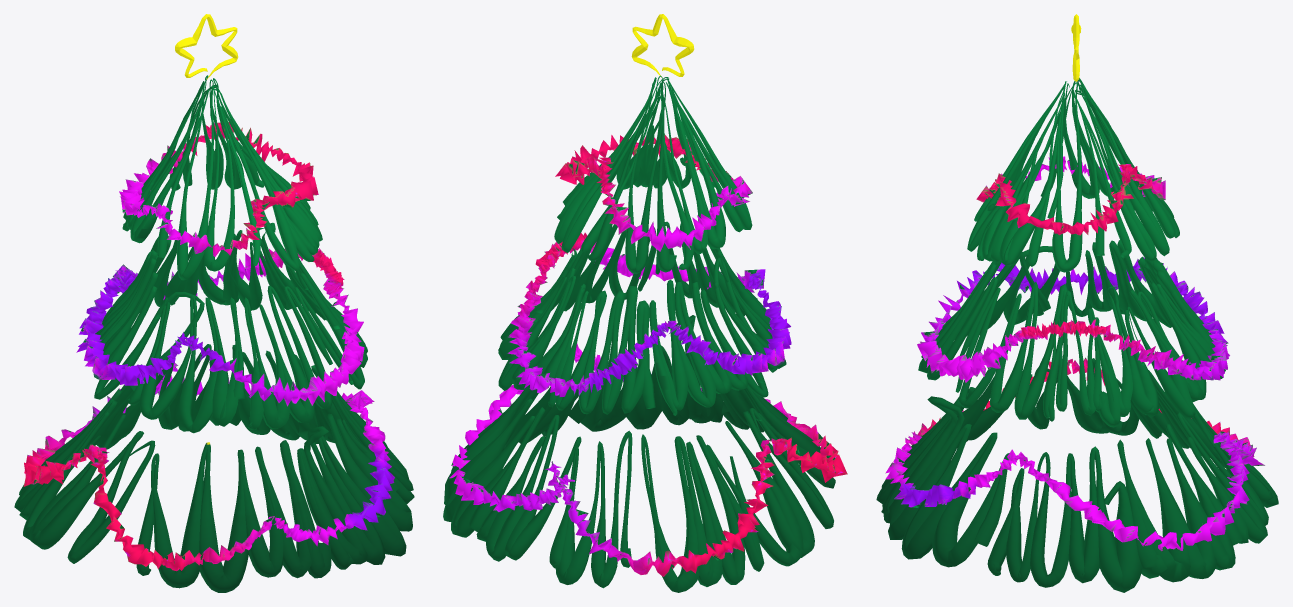
The model's file is tree_3december_day_22.glb.
The picture shows the model from 3 angles, left to right: view 1: azimuth 30°, elevation 25°; view 2: azimuth 150°, elevation 25°; view 3: azimuth 270°, elevation 25°; orthographic projection. The views are drawn at different scales.
Visible parts, largest first — view 1: Object_3, Object_2; view 2: Object_3, Object_2; view 3: Object_3.
Boxes of the visible parts, box(x1,y1,x2,y2) form: Object_3: box(14, 75, 414, 592); Object_2: box(175, 14, 238, 79); Object_3: box(443, 75, 847, 592); Object_2: box(631, 14, 694, 77); Object_3: box(876, 78, 1278, 592).
Bounding box in the file's own units: 1.91 × 2.64 × 1.94.
1 material, 1 textured.
